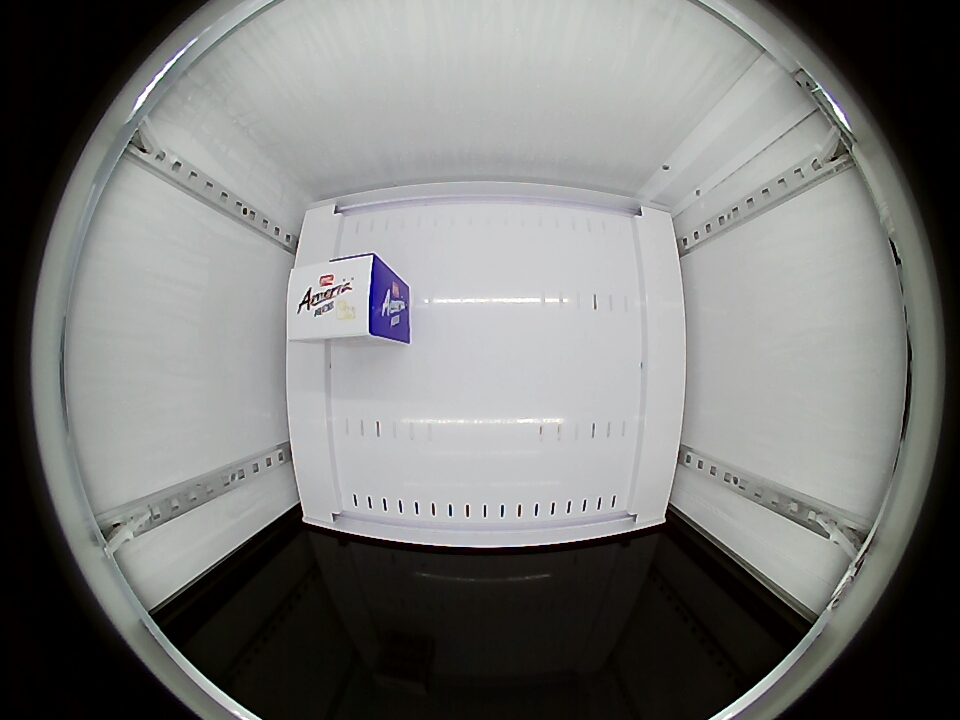meiniye: (285, 253, 396, 343)
